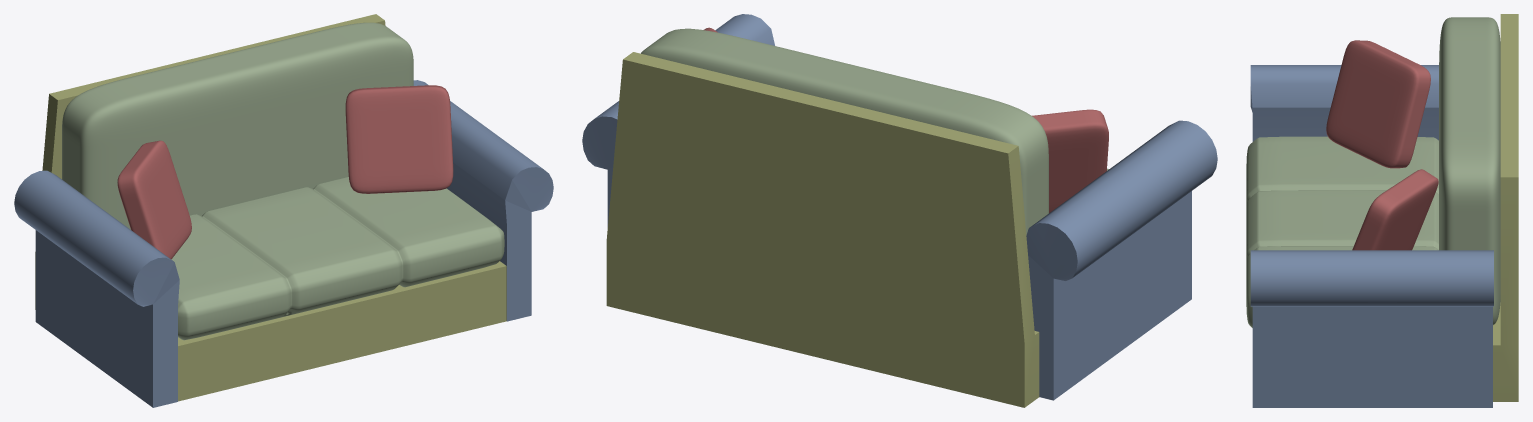
Rendered from Couch.fbx.
3 views of the same model, side by side, from view 1: azimuth 30°, elevation 25°; view 2: azimuth 150°, elevation 25°; view 3: azimuth 270°, elevation 25° (orthographic). The views are drawn at different scales.
Parts seen in each view (by area): view 1: Couch; view 2: Couch; view 3: Couch.
Part boxes in pixels (<box>): Couch: <box>14,14,553,407</box>; Couch: <box>582,14,1217,407</box>; Couch: <box>1246,14,1518,407</box>.
Bounding box in the file's own units: 3.1 × 1.56 × 1.7.
